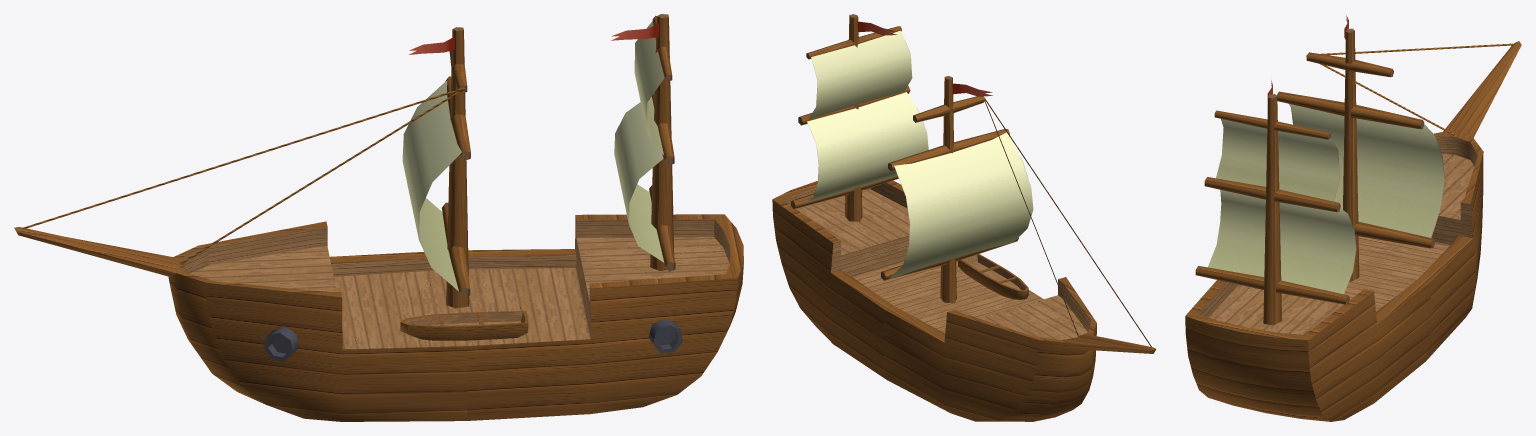
The picture shows the model from 3 angles, left to right: view 1: azimuth 30°, elevation 25°; view 2: azimuth 150°, elevation 25°; view 3: azimuth 270°, elevation 25°; orthographic projection. The views are drawn at different scales.
Visible parts, largest first — view 1: defaultMaterial.043; view 2: defaultMaterial.043; view 3: defaultMaterial.043.
Boxes of the visible parts, x1,y1,x2,y2 form: defaultMaterial.043: [14, 14, 743, 421]; defaultMaterial.043: [772, 14, 1156, 421]; defaultMaterial.043: [1185, 15, 1521, 421].
Bounding box in the file's own units: 1239 × 716 × 680.
1 material, 1 textured.
